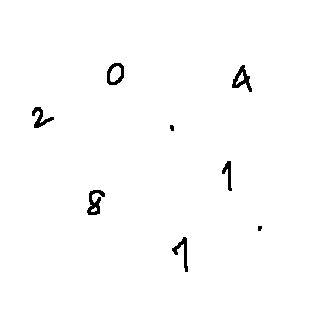.: (161, 114, 180, 138), (251, 221, 272, 239)
0: (100, 58, 131, 91)
1: (219, 148, 241, 202)
2: (26, 97, 60, 141)
4: (230, 62, 260, 97)
7: (166, 228, 201, 284)
8: (85, 180, 108, 222)
